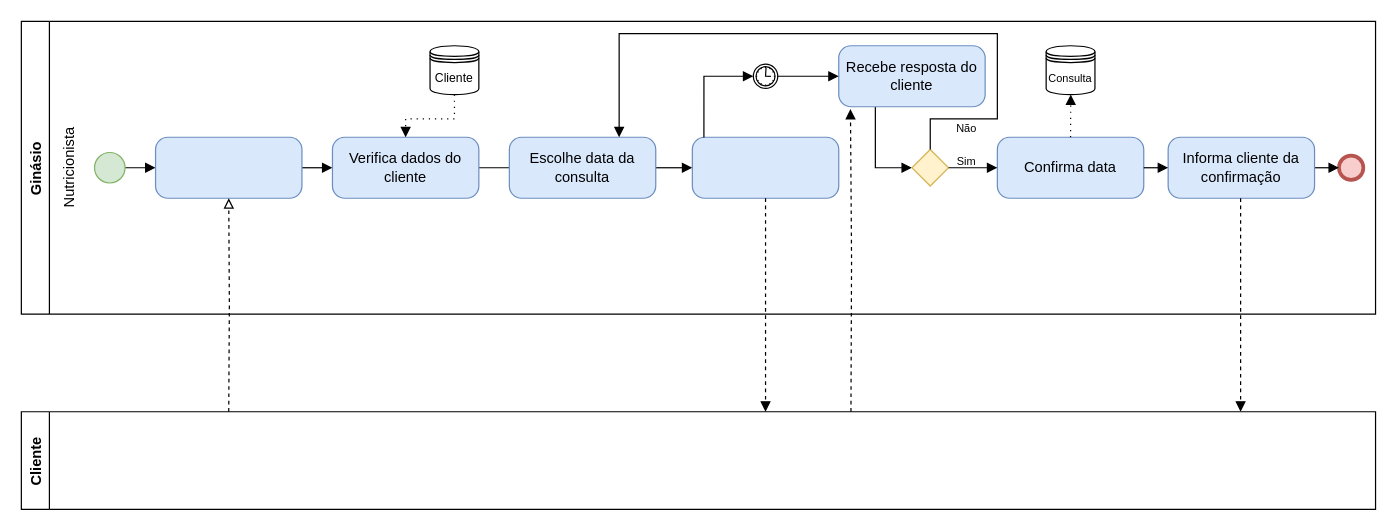
This 1397x531 diagram has some shape labels left out. Here are the shapes that lost their labels. From the top down, the centre of each, then its label:
At [765,75]: "Espera por confirmação da data".
At [228,167]: "Recebe pedido de consulta".
At [765,167]: "Informa cliente".
At [930,167]: "Tem disponibilidade?".
